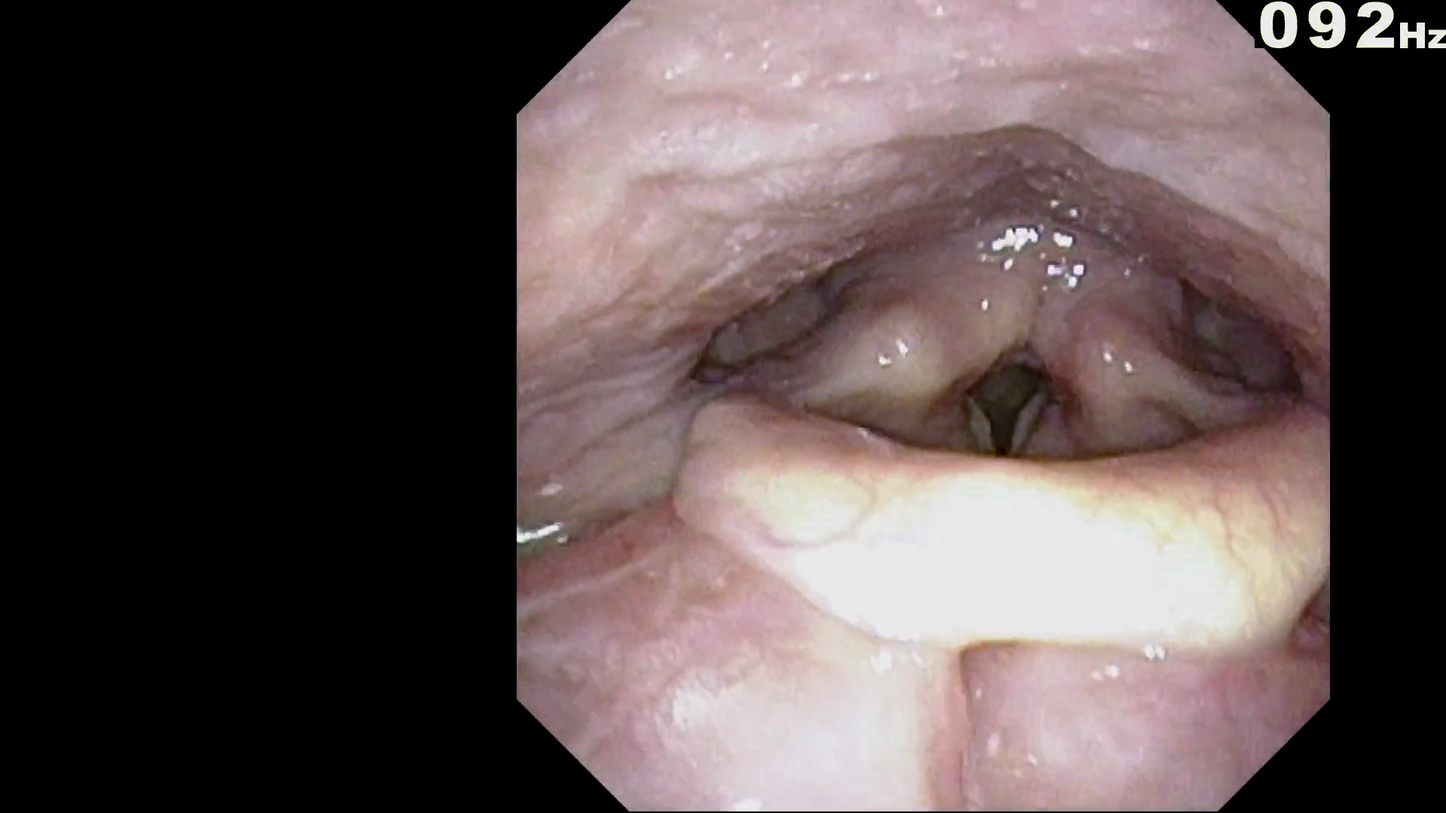epiglottis: (675, 359, 1327, 667)
trachea: (931, 293, 1103, 492)
